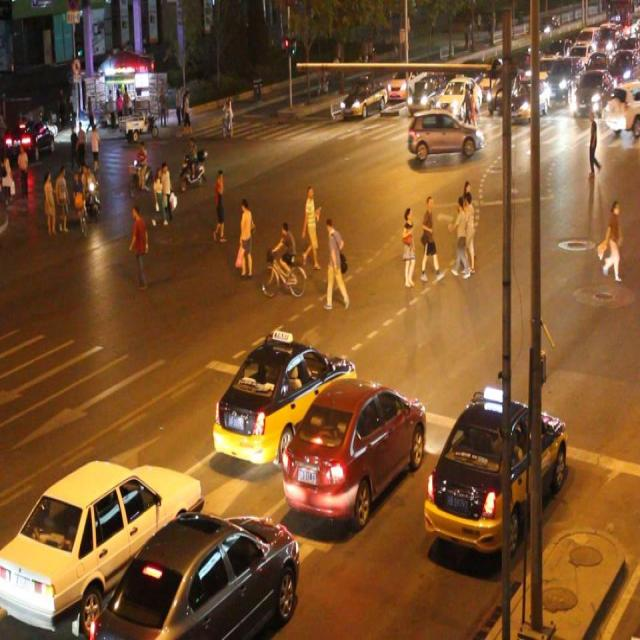car: (1, 456, 204, 634), (92, 509, 296, 640), (424, 398, 564, 554), (281, 381, 425, 522), (212, 332, 356, 466), (408, 109, 481, 161), (340, 72, 386, 121), (432, 76, 480, 118), (603, 84, 640, 134), (406, 75, 442, 113)
